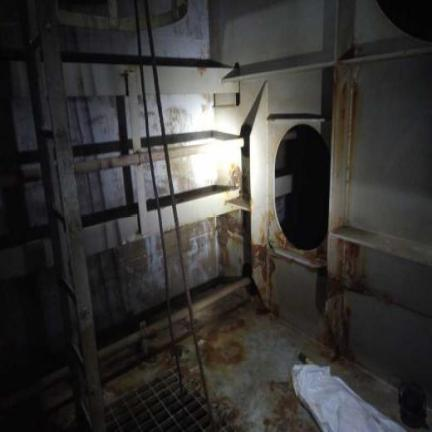karat: (202, 311, 248, 371)
